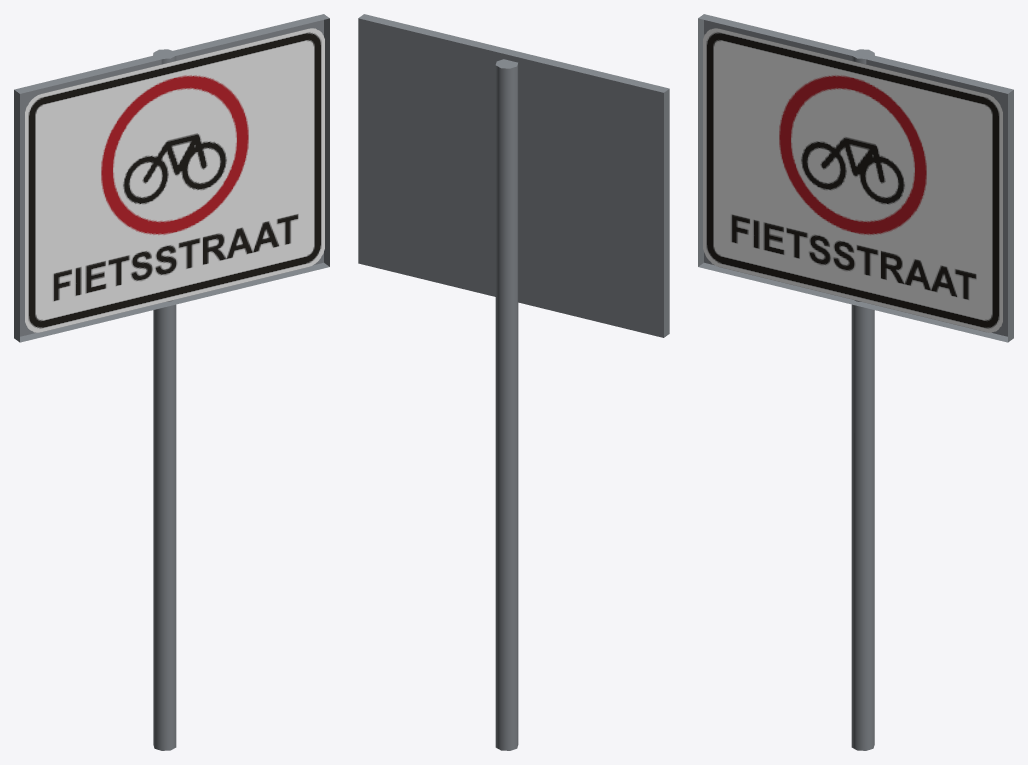
Rendered from type-sign.obj.
The picture shows the model from 3 angles, left to right: view 1: azimuth 30°, elevation 25°; view 2: azimuth 150°, elevation 25°; view 3: azimuth 330°, elevation 25°; orthographic projection.
Parts seen in each view (by area): view 1: part2, part1; view 2: part2, part1; view 3: part2, part1.
Boxes of the visible parts, bbox=[...] form: part2: bbox=[14, 14, 329, 342]; part1: bbox=[153, 49, 176, 750]; part2: bbox=[358, 14, 669, 337]; part1: bbox=[495, 59, 518, 750]; part2: bbox=[698, 14, 1013, 342]; part1: bbox=[851, 49, 874, 750].
Bounding box in the file's own units: 1.5 × 3.22 × 0.135.
2 materials, 1 textured.
